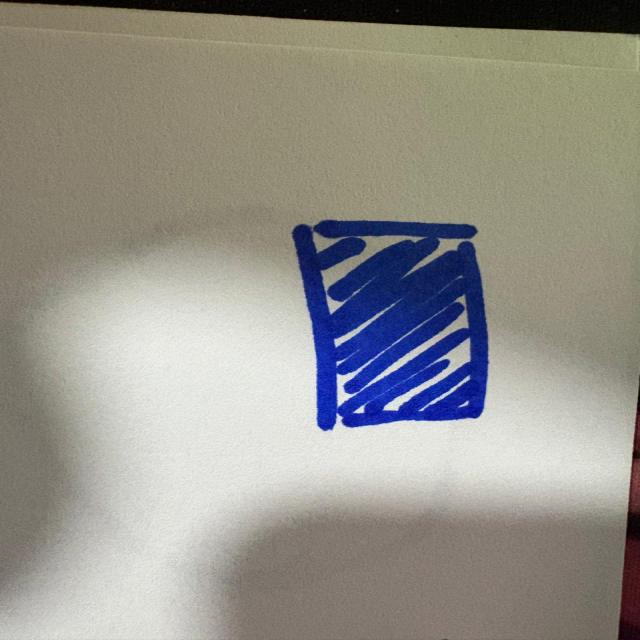Rectangle: (283, 211, 500, 434)
